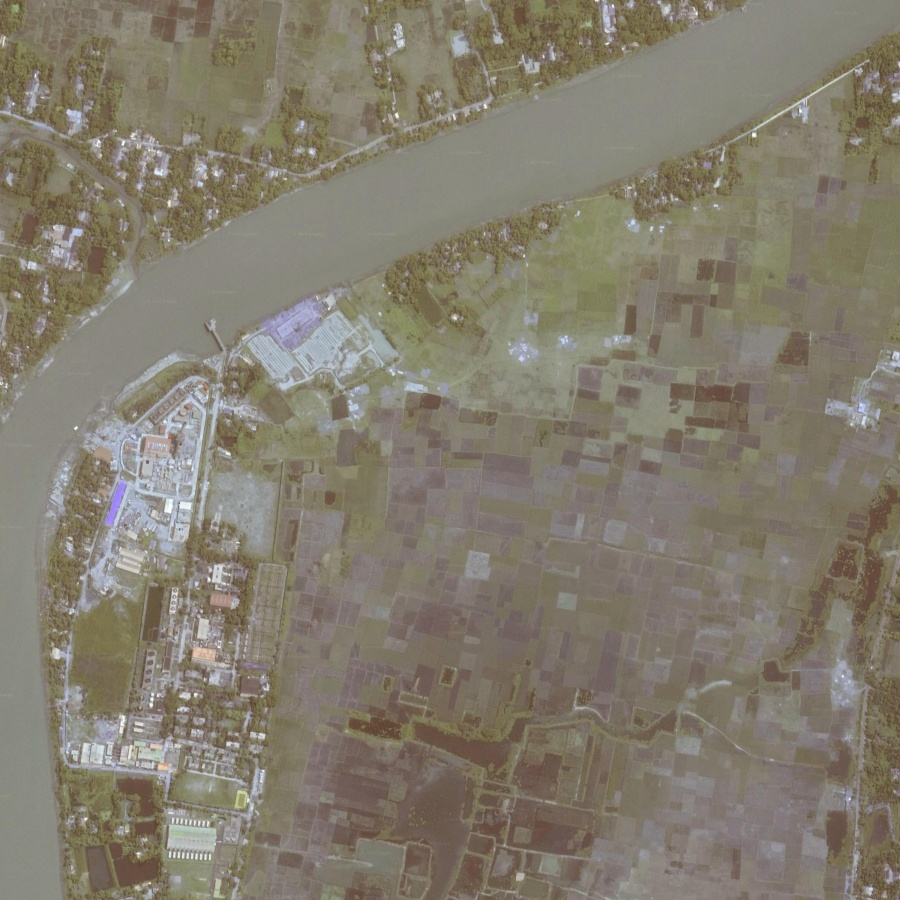PowerPlant: (132, 387, 203, 542)
